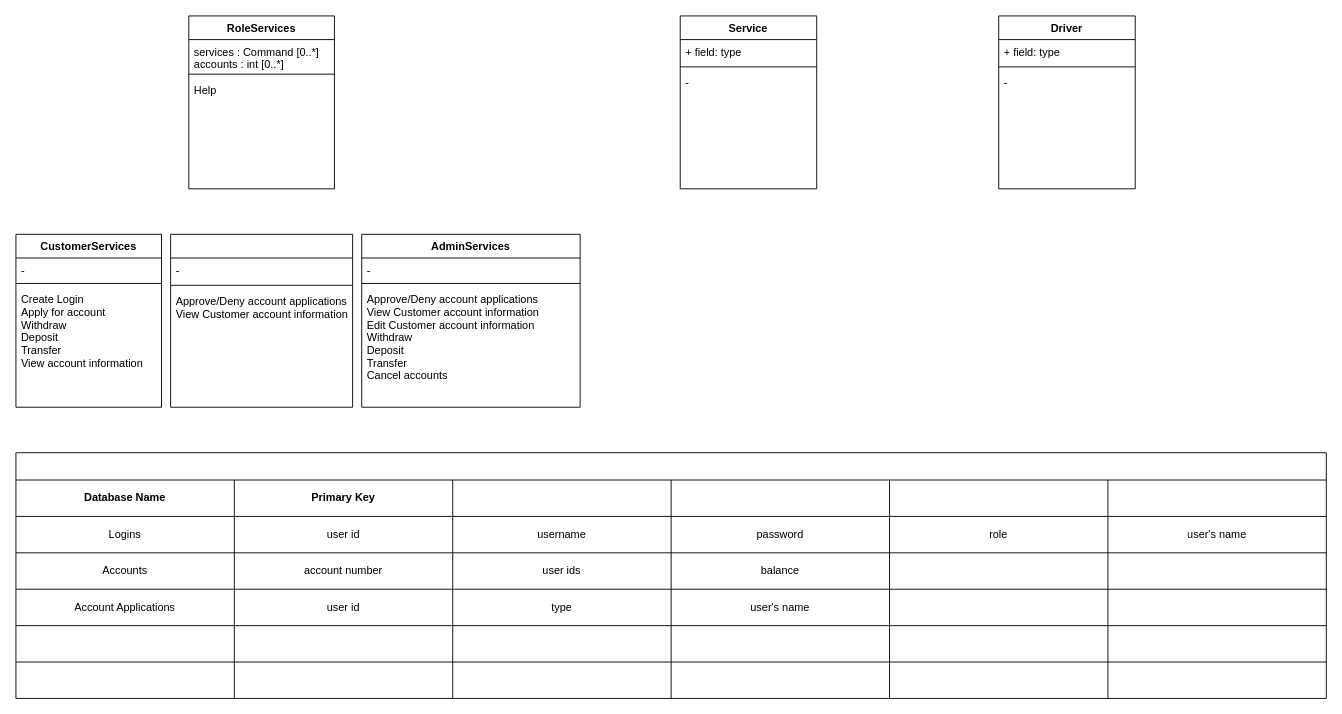
Image size: 1342x714. Some labels were removed from this diagram. Here are the shapes that lost their labels. From the top down, the box of each, then its label:
(170, 233, 353, 407): EmployeeServices
(15, 452, 1326, 698): Databases
